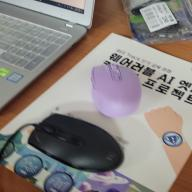mouse: (24, 112, 127, 172), (88, 62, 144, 118)
